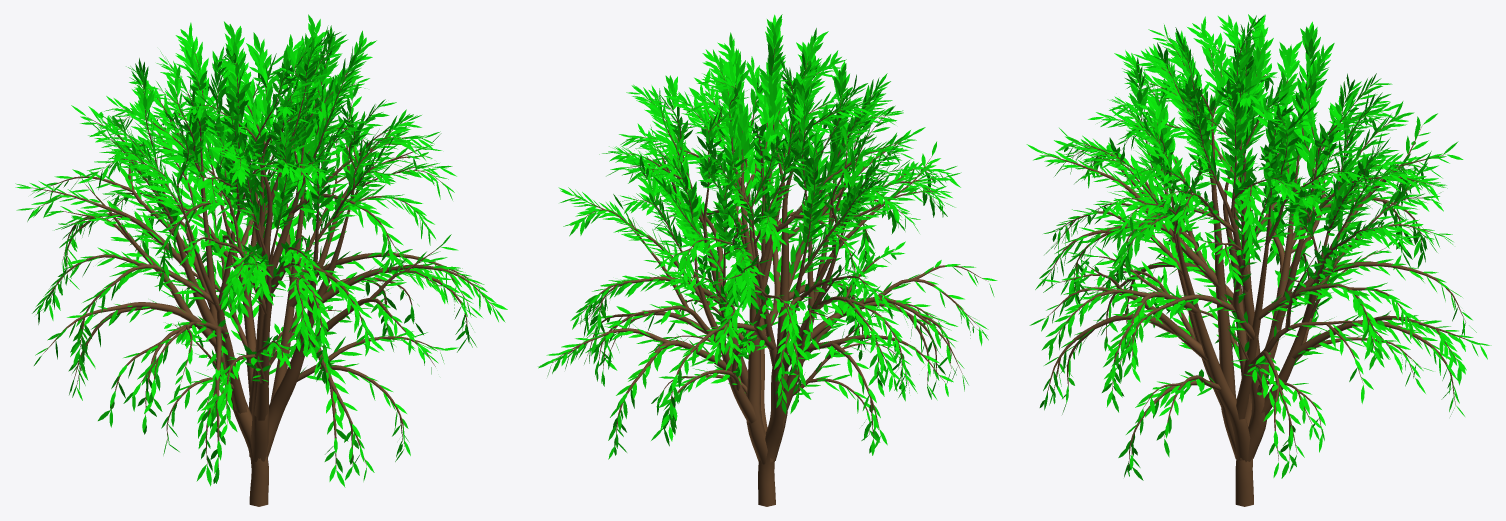
Rendered from Tree_1.fbx.
The picture shows the model from 3 angles, left to right: view 1: azimuth 30°, elevation 25°; view 2: azimuth 150°, elevation 25°; view 3: azimuth 270°, elevation 25°; orthographic projection. The views are drawn at different scales.
Parts seen in each view (by area): view 1: Tree 1; view 2: Tree 1; view 3: Tree 1.
Part boxes in pixels (left/top/right/bottom): Tree 1: left=15, top=14, right=507, bottom=506; Tree 1: left=538, top=14, right=997, bottom=506; Tree 1: left=1026, top=14, right=1491, bottom=506.
Bounding box in the file's own units: 440 × 524 × 456.
